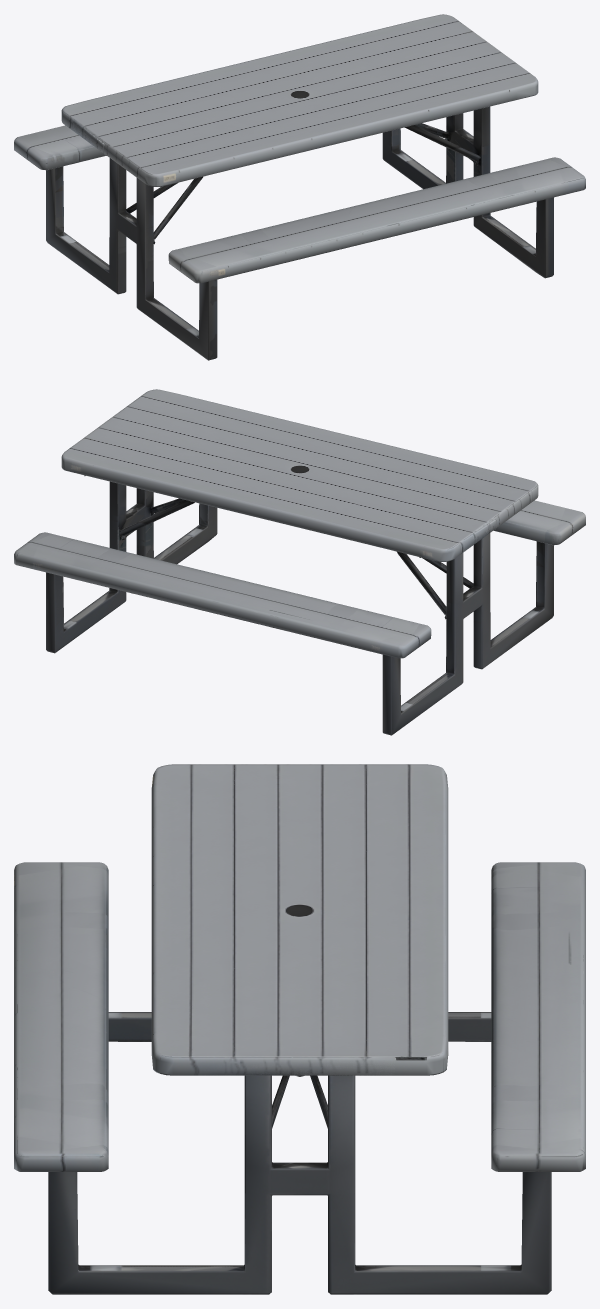
The model's file is picnic_table_classic_0125185306_texture.glb.
3 renders of one model, top to bottom at view 1: azimuth 30°, elevation 25°; view 2: azimuth 150°, elevation 25°; view 3: azimuth 270°, elevation 25°, orthographic. The views are drawn at different scales.
Parts seen in each view (by area): view 1: Mesh_0; view 2: Mesh_0; view 3: Mesh_0.
Boxes of the visible parts, x1,y1,x2,y2 form: Mesh_0: (14,14,585,360); Mesh_0: (14,389,585,735); Mesh_0: (14,764,585,1294).
Size of the model in its own units: 1.89 by 0.762 by 1.55.
1 material, 1 textured.
